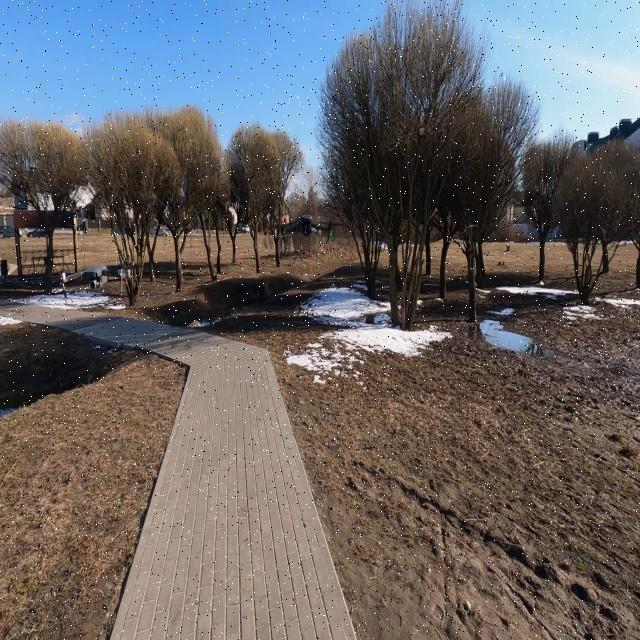Drons: (53, 259, 137, 298), (271, 208, 347, 248)
